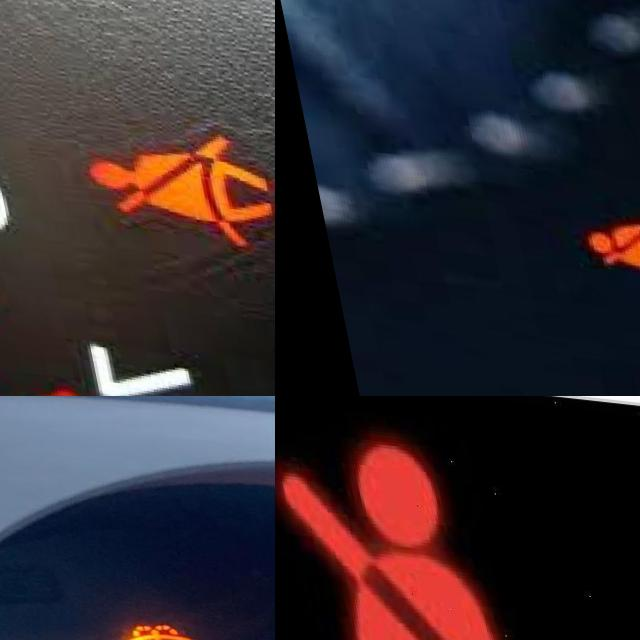Seat Belt: (275, 415, 636, 640), (69, 112, 270, 238), (572, 200, 640, 279)
